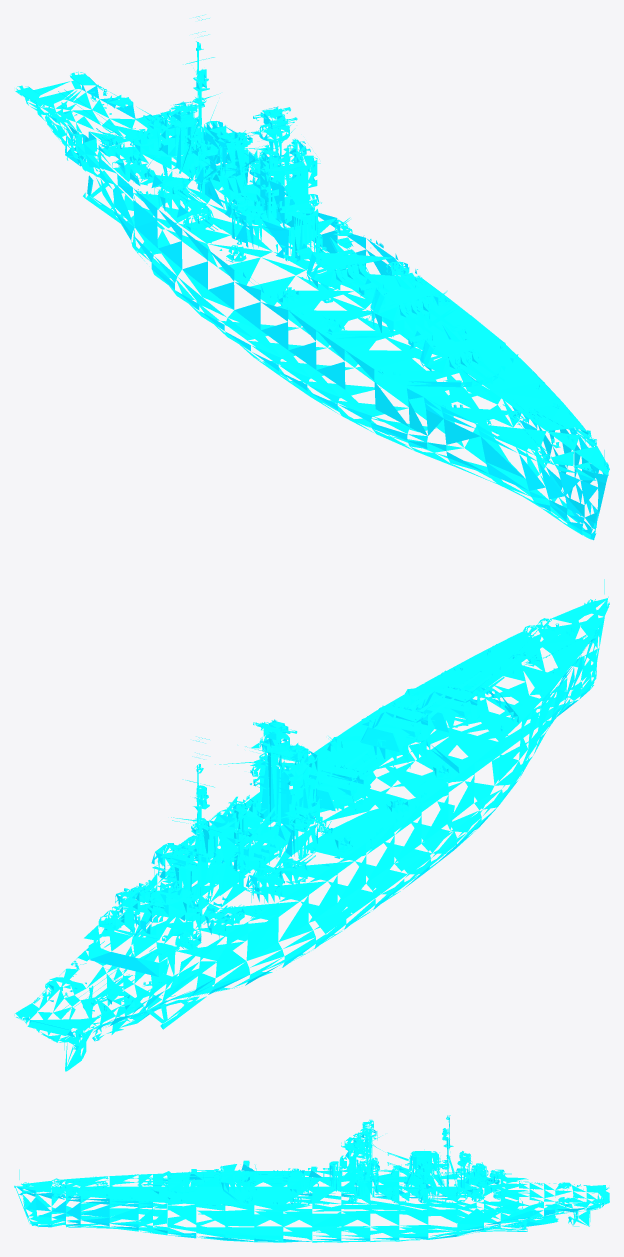
Rendered from PRSB538.glb.
3 renders of one model, top to bottom at view 1: azimuth 30°, elevation 25°; view 2: azimuth 150°, elevation 25°; view 3: azimuth 270°, elevation 25°, orthographic. The views are drawn at different scales.
Visible parts, largest first — view 1: hull, turret; view 2: hull, turret; view 3: hull, turret.
Part boxes in pixels (x1=…): hull: x1=15, y1=14, x2=609, y2=540; turret: x1=98, y1=116, x2=504, y2=386; hull: x1=14, y1=579, x2=609, y2=1071; turret: x1=98, y1=671, x2=504, y2=949; hull: x1=14, y1=1115, x2=609, y2=1242; turret: x1=137, y1=1149, x2=511, y2=1203.
Size of the model in its own units: 2.43 by 3.56 by 15.43.
